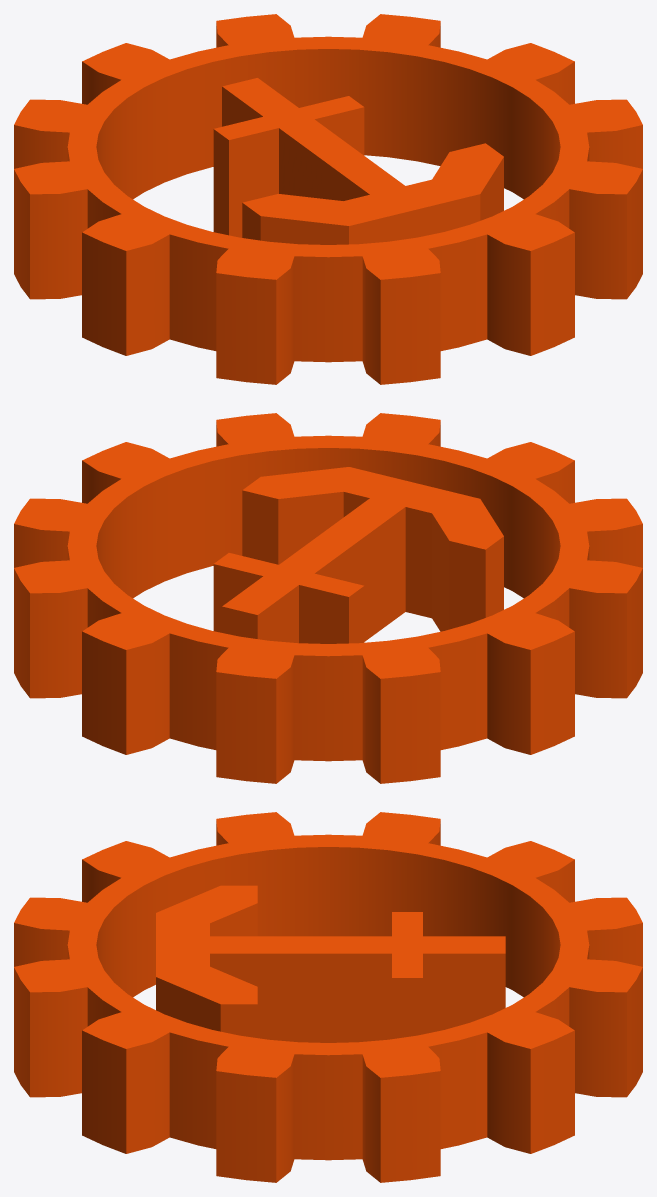
The model's file is naval_area.fbx.
3 views of the same model, one above another, from view 1: azimuth 30°, elevation 25°; view 2: azimuth 150°, elevation 25°; view 3: azimuth 270°, elevation 25° (orthographic).
Parts seen in each view (by area): view 1: Gear; view 2: Gear; view 3: Gear.
Boxes of the visible parts, bbox=[...] form: Gear: bbox=[14, 14, 642, 384]; Gear: bbox=[14, 413, 642, 783]; Gear: bbox=[14, 812, 642, 1182].
Bounding box in the file's own units: 211 × 38.84 × 211.
